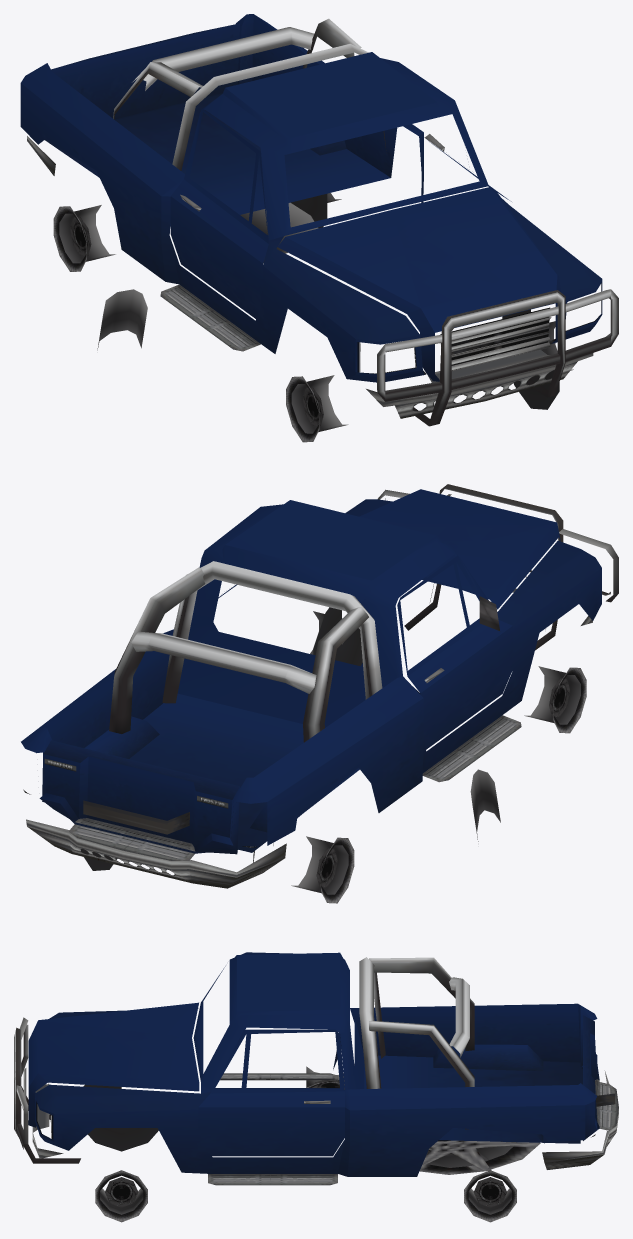
The model's file is car-HEVY_Car2.glb.
3 renders of one model, top to bottom at view 1: azimuth 30°, elevation 25°; view 2: azimuth 150°, elevation 25°; view 3: azimuth 270°, elevation 25°, orthographic. The views are drawn at different scales.
Visible parts, largest first — view 1: HEVY_Car2; view 2: HEVY_Car2; view 3: HEVY_Car2.
Boxes of the visible parts, x1,y1,x2,y2 form: HEVY_Car2: (20,14,618,442); HEVY_Car2: (21,484,618,903); HEVY_Car2: (14,952,618,1222).
Bounding box in the file's own units: 2.42 × 1.79 × 4.61.
13 materials, 13 textured.
